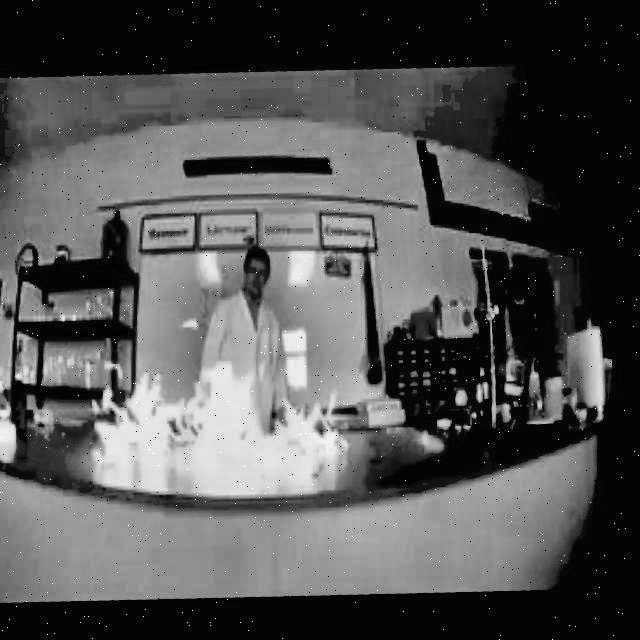Fire: (83, 322, 364, 484)
